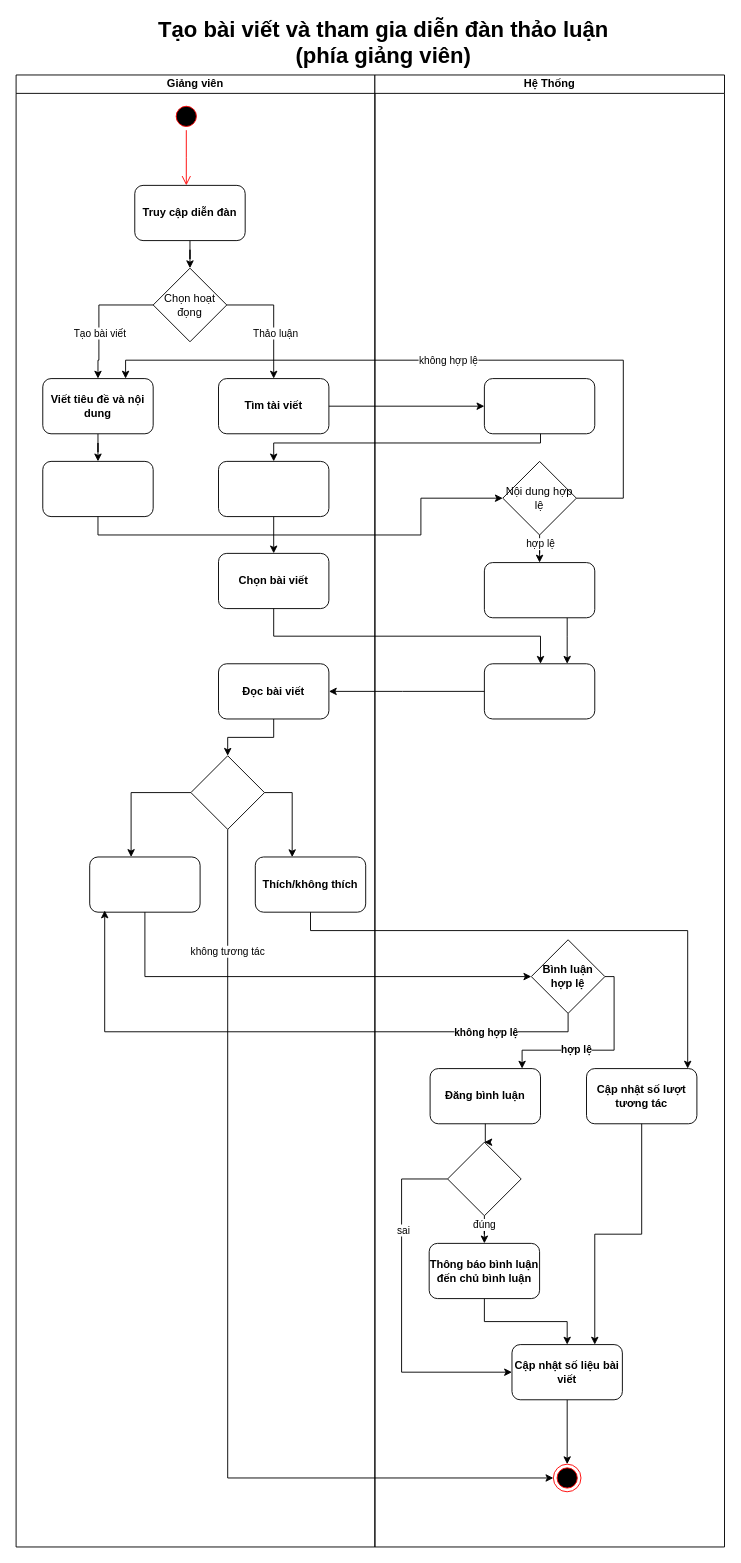
Some shapes in this 741 by 1563 pixel diagram are drawn without their labels. Each missing label, with the centre of its shape:
Bình luận của người dùng khác: (484,1178)
Hiển thị nội dung bài viết: (539,691)
Lưu bài viết: (539,590)
Tương tác: (227,792)
Tải danh sách bài viết: (539,406)
Viết bình luận/trả lời bình luận khác: (144,884)
Xem danh sách bài viết: (273,488)
Đăng bài: (97,488)
